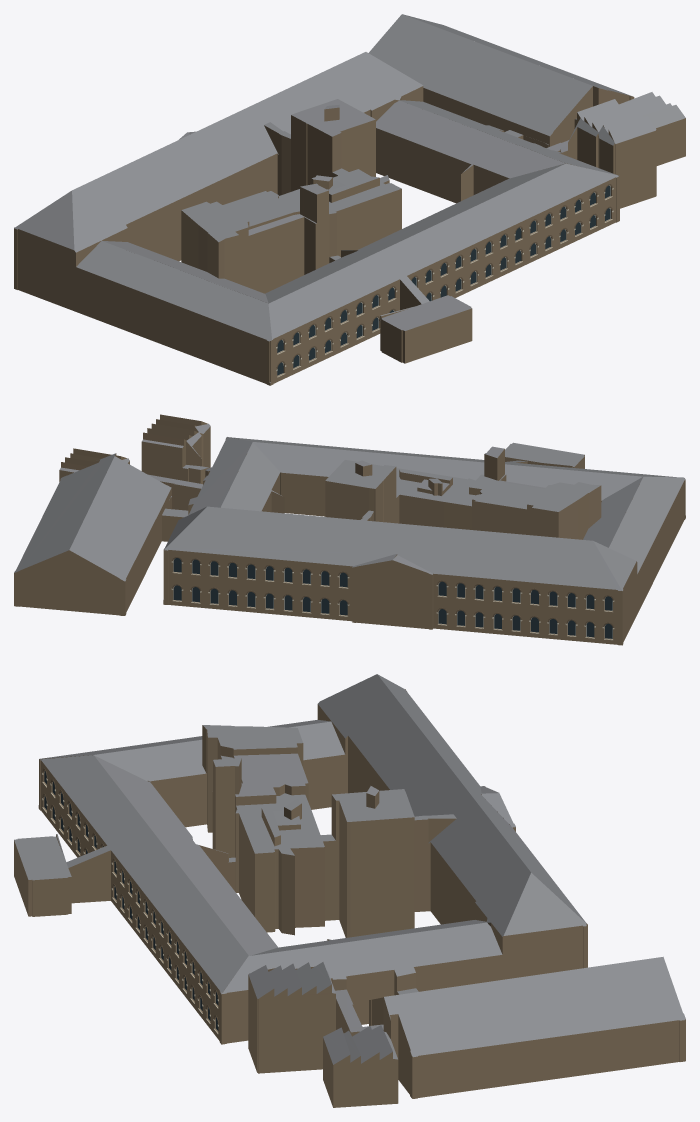
File: recipe-large-rijksakademie.glb
3 views of the same model, one above another, from view 1: azimuth 30°, elevation 25°; view 2: azimuth 150°, elevation 25°; view 3: azimuth 270°, elevation 25° (orthographic). The views are drawn at different scales.
Visible parts, largest first — view 1: rijksakademie; view 2: rijksakademie; view 3: rijksakademie.
Boxes of the visible parts, left/top/right/bottom form: rijksakademie: left=14, top=14, right=685, bottom=385; rijksakademie: left=14, top=414, right=685, bottom=645; rijksakademie: left=14, top=674, right=685, bottom=1107.
Size of the model in its own units: 121 by 21.44 by 97.93.
